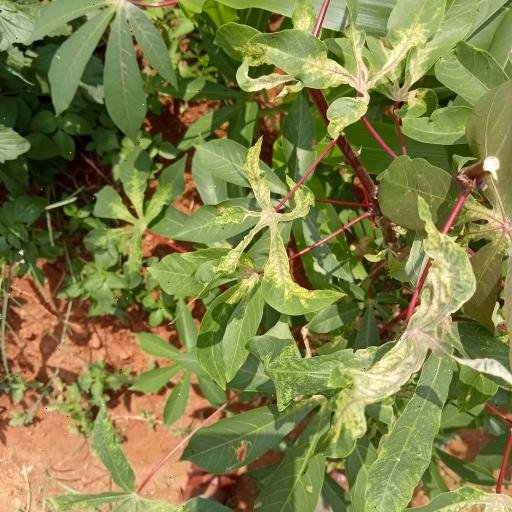Cassava_Brown_Leaf_Spot: (234, 0, 456, 131), (221, 138, 334, 326)
Cassava_Healthy: (25, 0, 186, 125)
